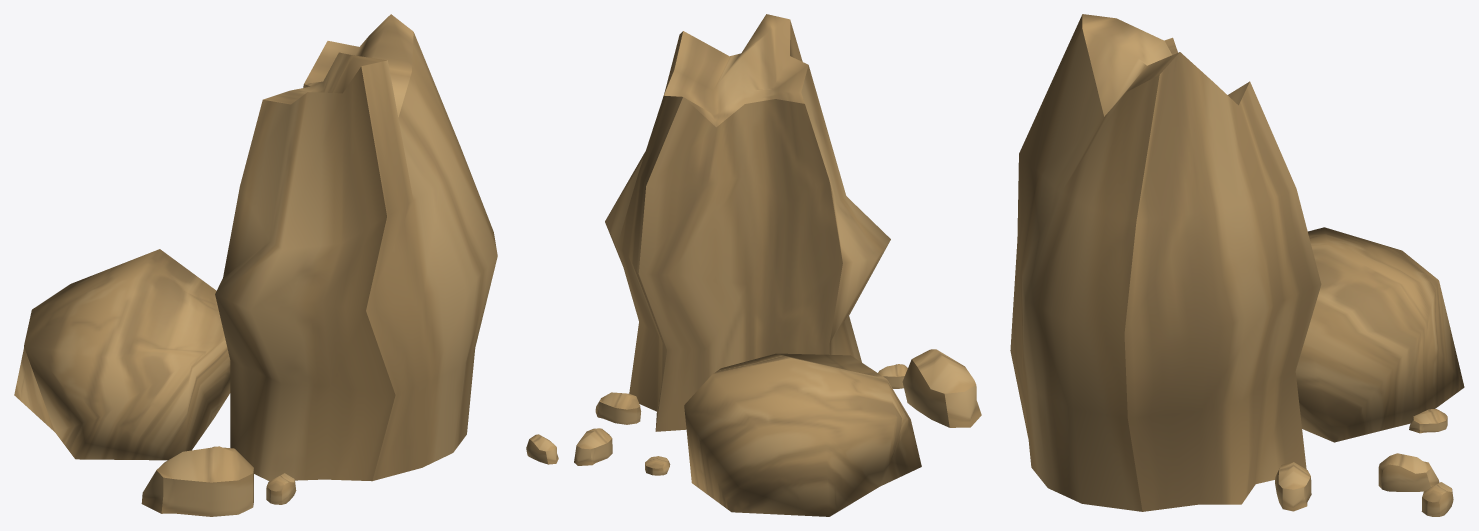
Rendered from m_env_roche_1_moyenne.FBX.
3 views of the same model, side by side, from view 1: azimuth 30°, elevation 25°; view 2: azimuth 150°, elevation 25°; view 3: azimuth 270°, elevation 25° (orthographic). The views are drawn at different scales.
Parts seen in each view (by area): view 1: Sphere011; view 2: Sphere011; view 3: Sphere011.
Part boxes in pixels (bbox=[...]): Sphere011: bbox=[14, 14, 497, 516]; Sphere011: bbox=[526, 14, 981, 516]; Sphere011: bbox=[1010, 14, 1464, 516].
Bounding box in the file's own units: 104 × 98.23 × 104.
